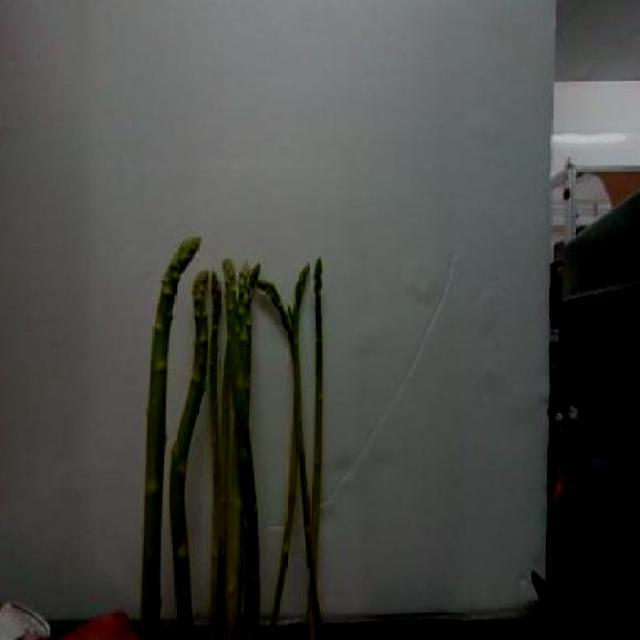aspargus: (140, 238, 203, 635), (168, 267, 212, 636)
